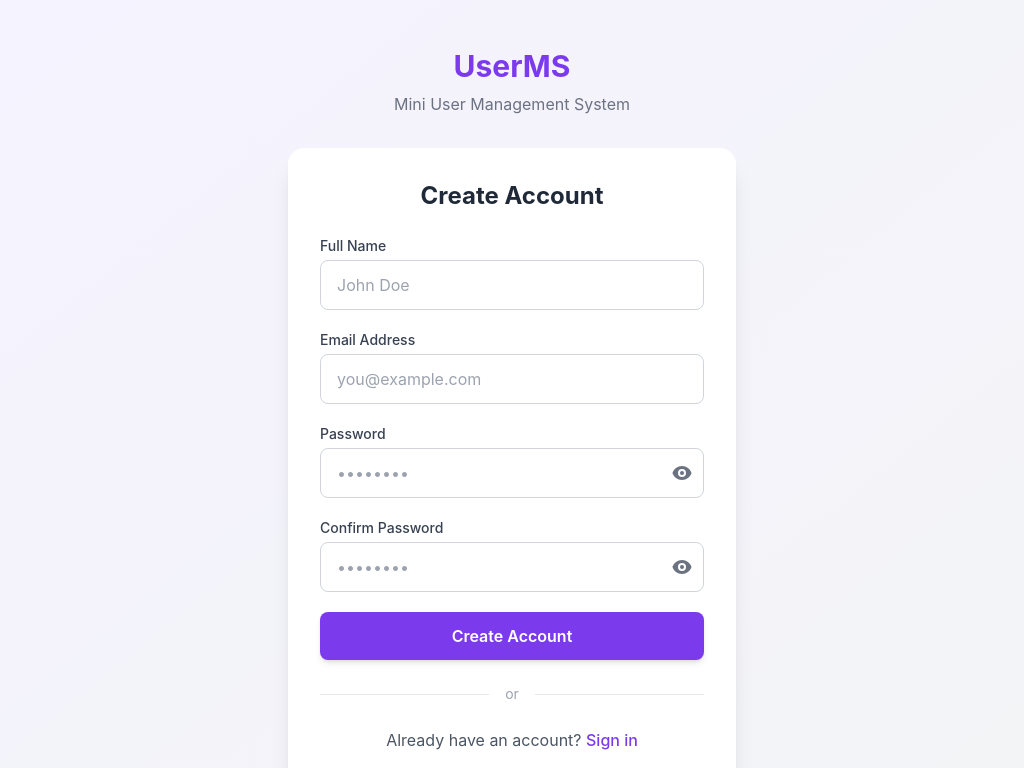
Test: Signup Component › shows validation error when full name is empty
Click the button "Create Account": click(512, 636) [320, 612, 704, 660]
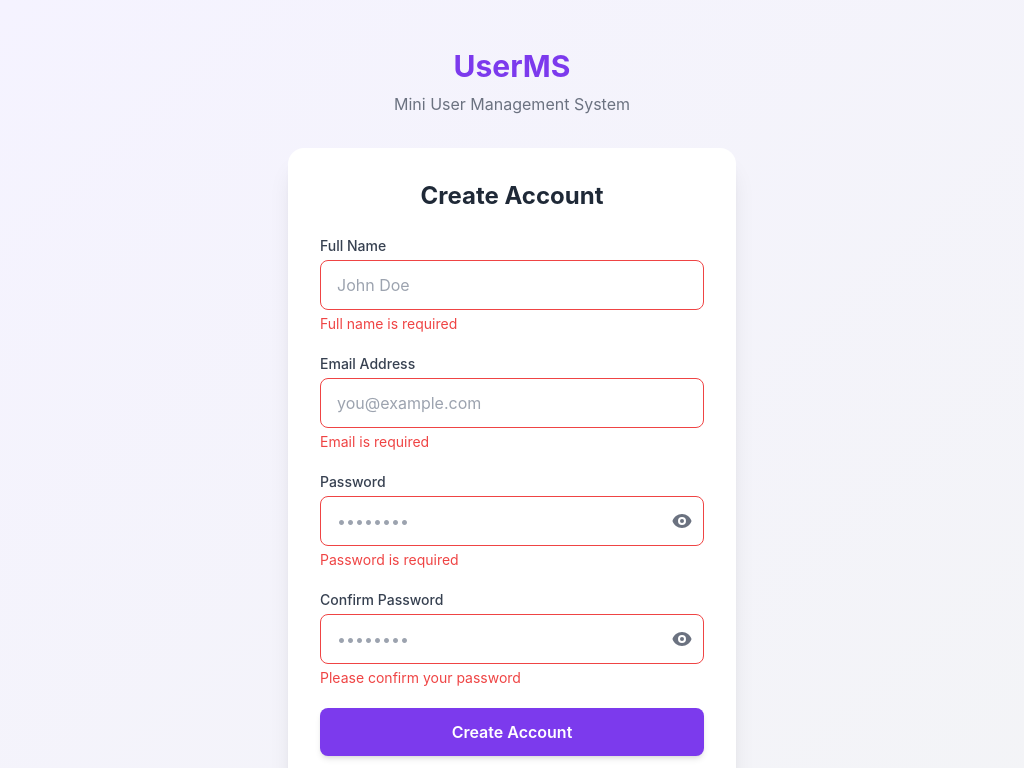
Now the text "Full name is required" is shown, box [320, 315, 457, 332]
